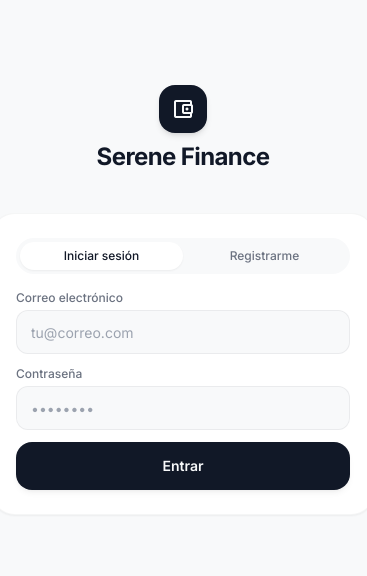
Scenario: AuthScreen › exige el nombre completo al registrarse
This screenshot has width=367, height=576.
Click the button "Registrarme": (264,256) [183,242,346,270]
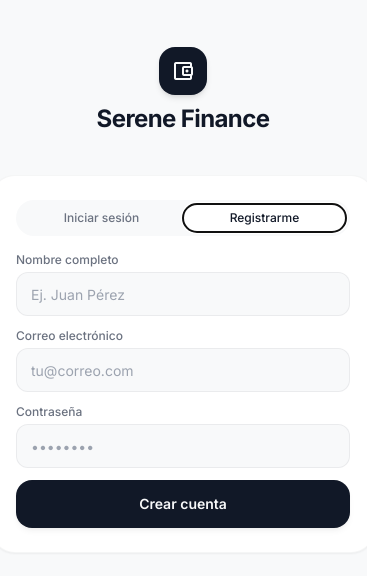
In the field with placeholder "tu@correo.com": (183,370) [16,348,350,392], type "danilo@test.com"
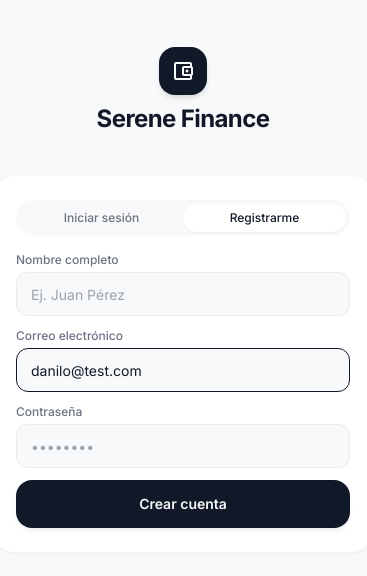
In the password field with placeholder "••••••••": (183,446) [16,424,350,468], type "secreto"
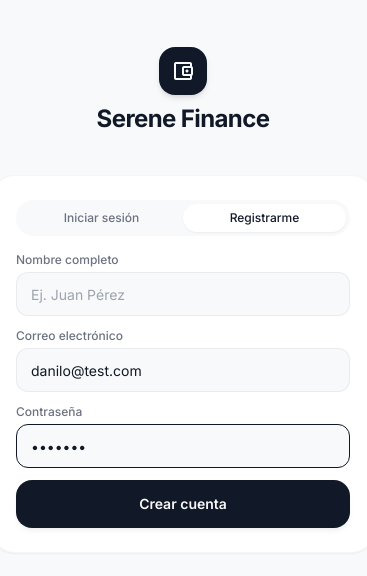
Submit the form "Crear cuenta", box [16,252,350,528]
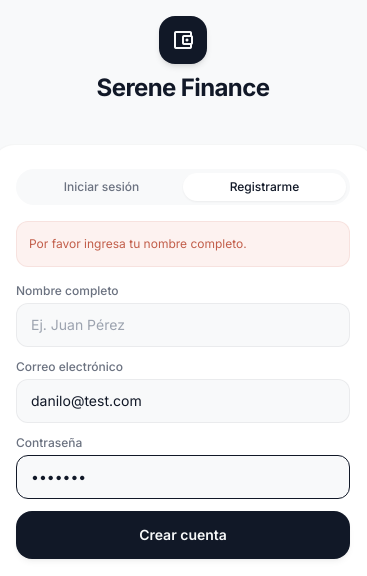
Expected: the text "Por favor ingresa tu nombre completo." is shown, [16,221,350,267]
